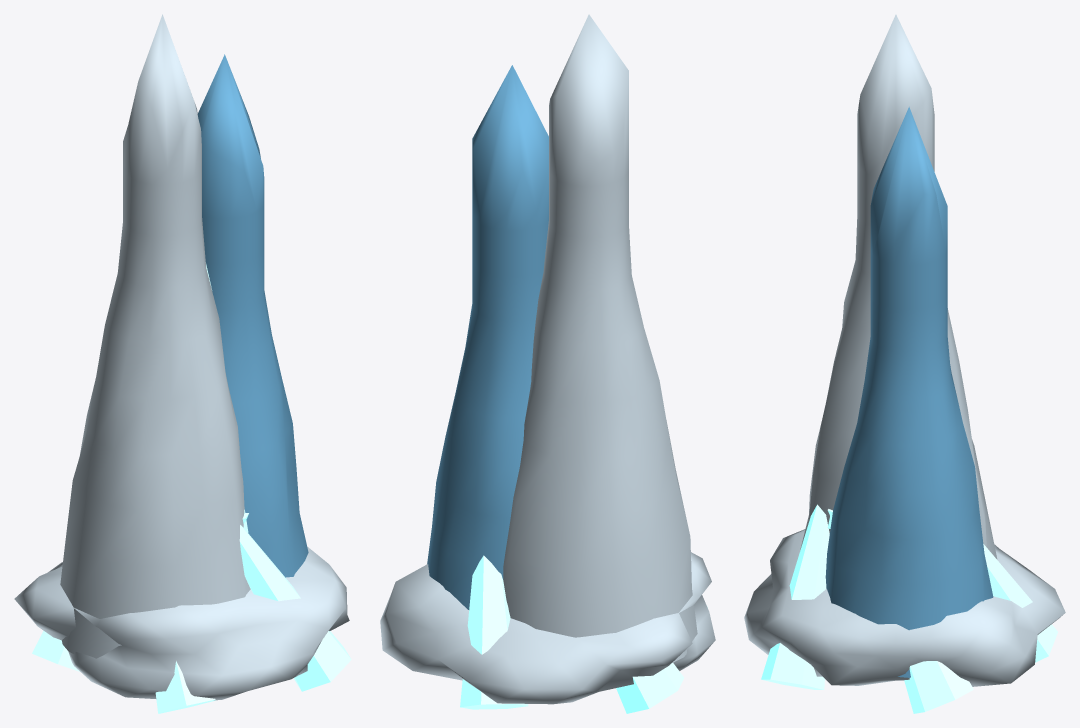
File: TILE_Pillar.glb
The picture shows the model from 3 angles, left to right: view 1: azimuth 30°, elevation 25°; view 2: azimuth 150°, elevation 25°; view 3: azimuth 270°, elevation 25°; orthographic projection. The views are drawn at different scales.
Parts seen in each view (by area): view 1: TILE_Pillar; view 2: TILE_Pillar; view 3: TILE_Pillar.
Part boxes in pixels (<box>): TILE_Pillar: <box>14,14,351,713</box>; TILE_Pillar: <box>380,14,715,713</box>; TILE_Pillar: <box>744,14,1065,713</box>.
Bounding box in the file's own units: 2.87 × 6.35 × 2.92.
